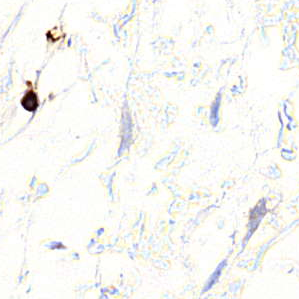Lymphocyte: (20, 81, 42, 112)
